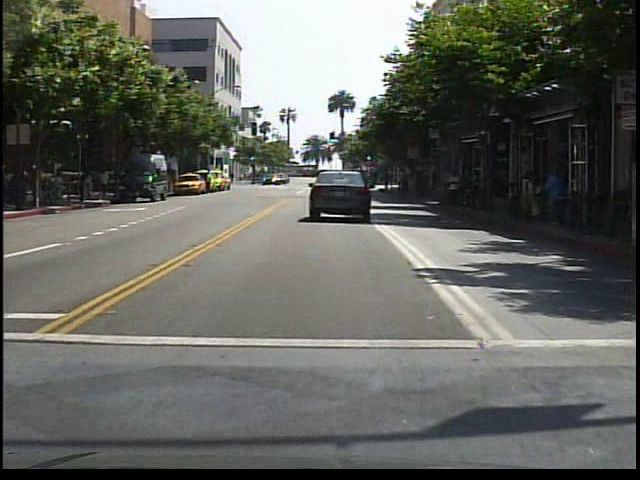person: (444, 168, 465, 211)
